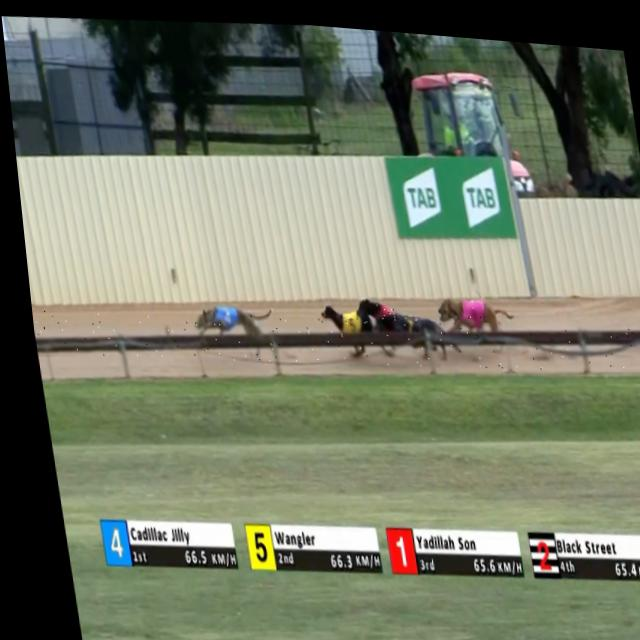dog_eight: (456, 294, 476, 323)
dog_five: (336, 306, 357, 339)
dog_four: (208, 302, 240, 339)
dog_one: (368, 298, 393, 319)
dog_seven: (390, 309, 418, 335)
rail: (29, 318, 640, 355)
